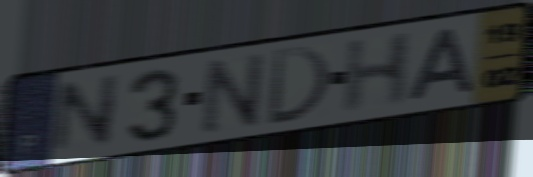3: (126, 65, 182, 144)
A: (404, 24, 478, 105)
D: (263, 43, 334, 128)
H: (339, 27, 417, 117)
N: (48, 70, 123, 158), (200, 49, 267, 138)
